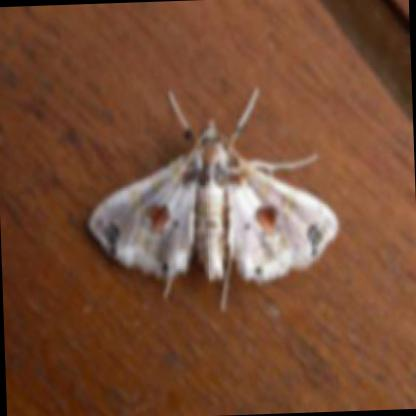leucinodes: (88, 124, 338, 288)
